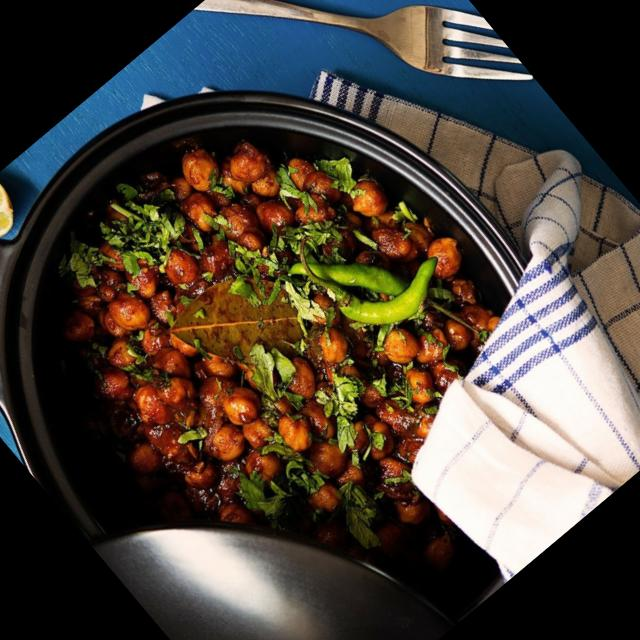Chole: (0, 43, 619, 640)
